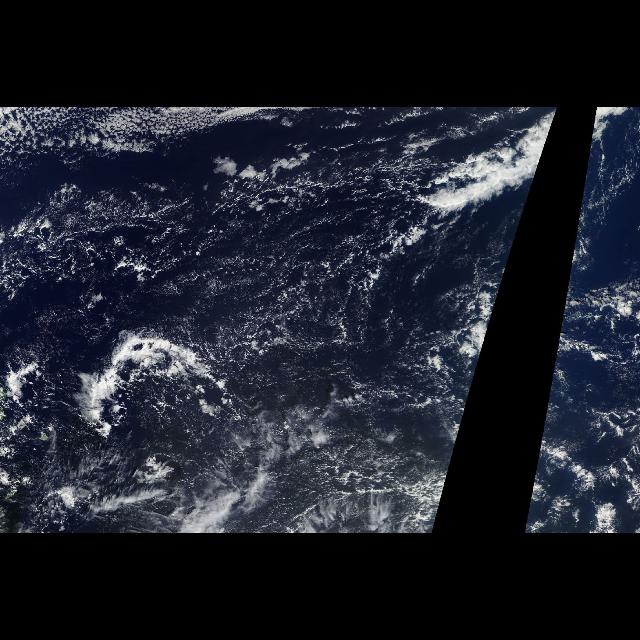Fish: (62, 325, 262, 441), (428, 119, 554, 233), (576, 119, 612, 233)
Gravel: (196, 188, 410, 339)
Sugar: (1, 108, 450, 476)
